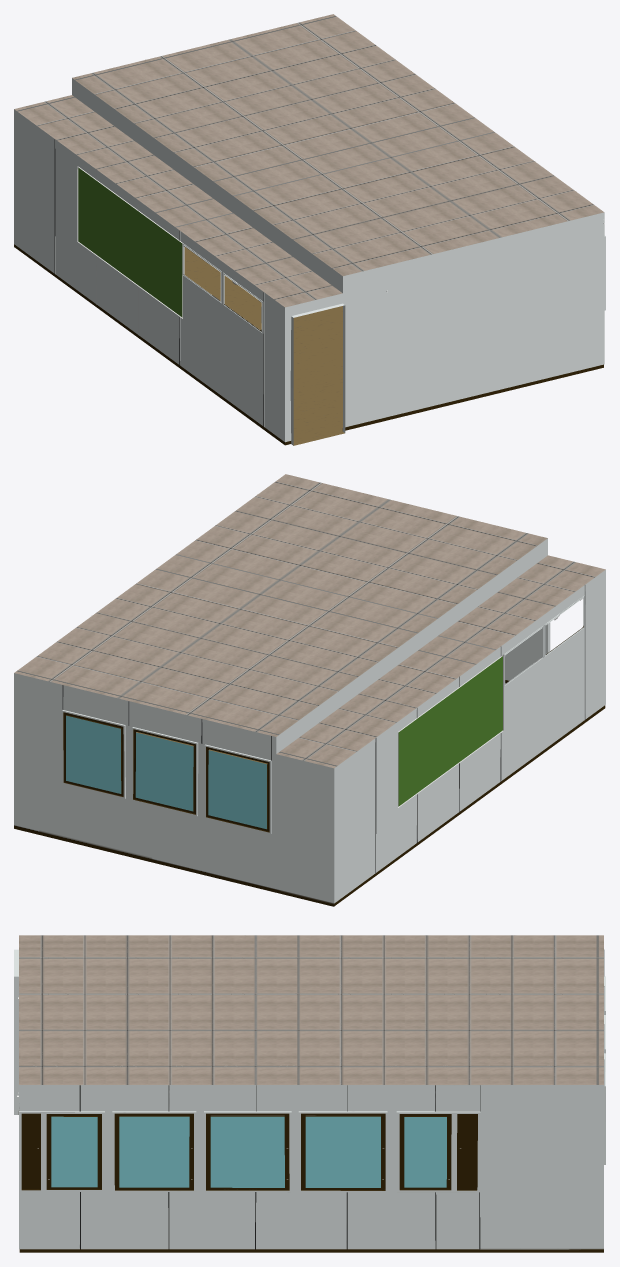
Rendered from TrimmingRoomV9.fbx.
The picture shows the model from 3 angles, top to bottom: view 1: azimuth 30°, elevation 25°; view 2: azimuth 150°, elevation 25°; view 3: azimuth 270°, elevation 25°; orthographic projection. The views are drawn at different scales.
Visible parts, largest first — view 1: Trimming Room; view 2: Trimming Room; view 3: Trimming Room.
Boxes of the visible parts, x1,y1,x2,y2 form: Trimming Room: (14, 14, 605, 445); Trimming Room: (14, 474, 605, 906); Trimming Room: (14, 935, 605, 1252).
Size of the model in its own units: 5.39 by 2.49 by 7.96.
